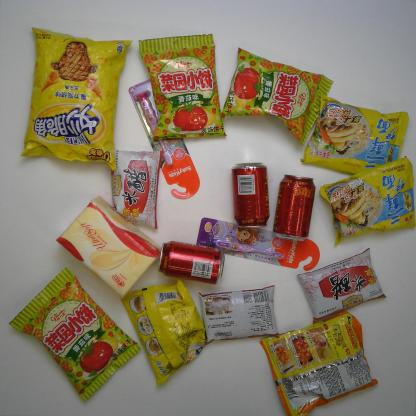Drink: (265, 168, 320, 245), (157, 237, 226, 289), (228, 159, 272, 231)
Instant Noodles: (258, 308, 381, 413), (118, 275, 210, 392), (299, 93, 411, 179), (317, 154, 416, 249)
Personal Hygiene: (126, 78, 203, 203), (193, 213, 323, 275)
Puffed Food: (4, 266, 144, 406), (18, 23, 135, 174), (219, 44, 337, 150), (136, 32, 229, 146)
Seasoner: (292, 246, 389, 328), (194, 283, 282, 346), (104, 142, 164, 233)
Tissue: (51, 192, 164, 302)
